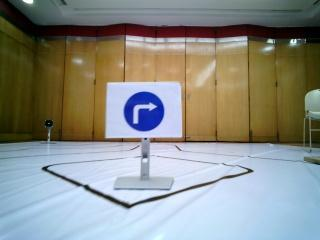right: (111, 84, 176, 137)
